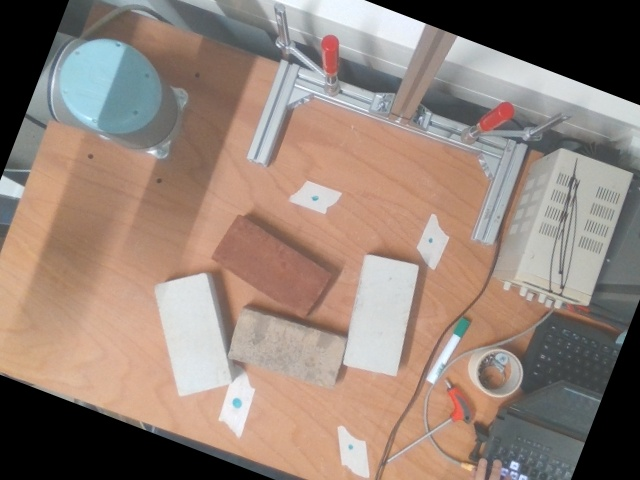brick: (213, 220, 327, 315), (346, 258, 417, 372), (230, 313, 342, 384), (158, 279, 227, 391)
